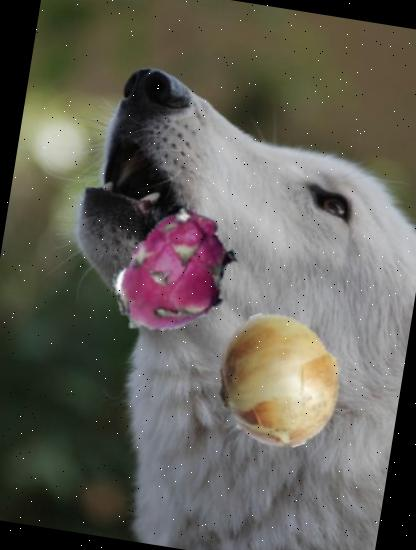Onion: (201, 300, 360, 460)
Pitahaya: (96, 196, 254, 354)
